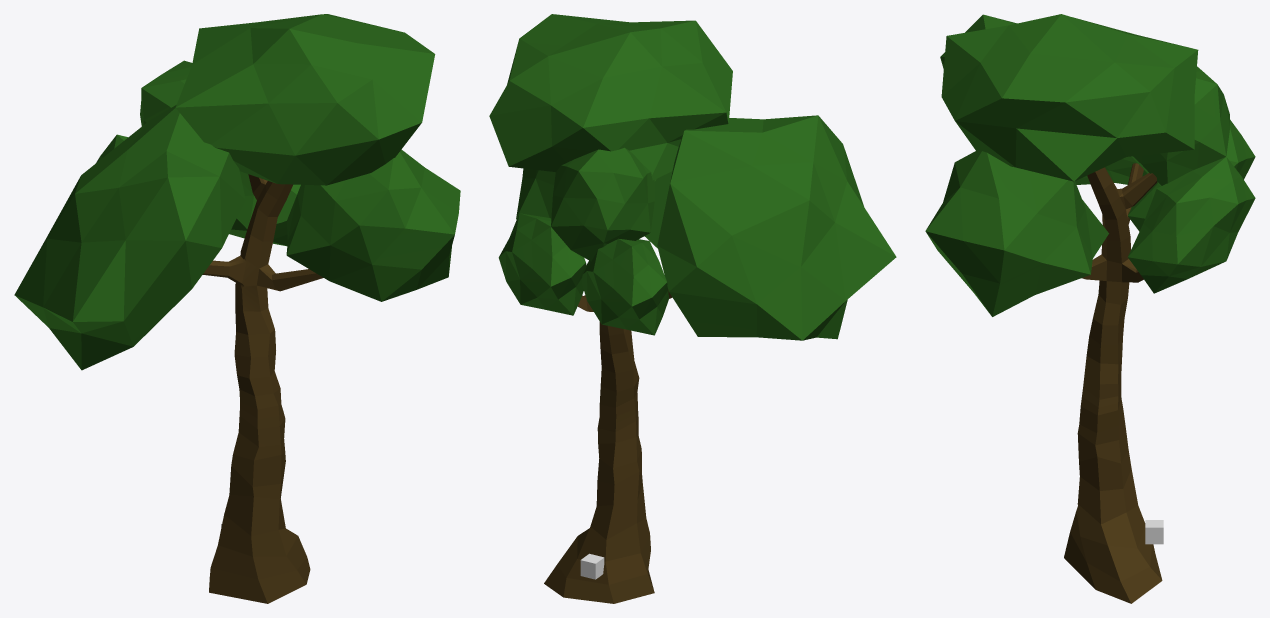
Rendered from bigtree3.fbx.
3 views of the same model, side by side, from view 1: azimuth 30°, elevation 25°; view 2: azimuth 150°, elevation 25°; view 3: azimuth 270°, elevation 25° (orthographic). The views are drawn at different scales.
Visible parts, largest first — view 1: Icosphere.001; view 2: Icosphere.001; view 3: Icosphere.001, Cube.
Part boxes in pixels (x1,y1,x2,y2): Icosphere.001: [14, 14, 460, 603]; Icosphere.001: [489, 14, 896, 603]; Icosphere.001: [925, 14, 1255, 603]; Cube: [1145, 520, 1163, 544].
Size of the model in its own units: 947 by 1336 by 711.
